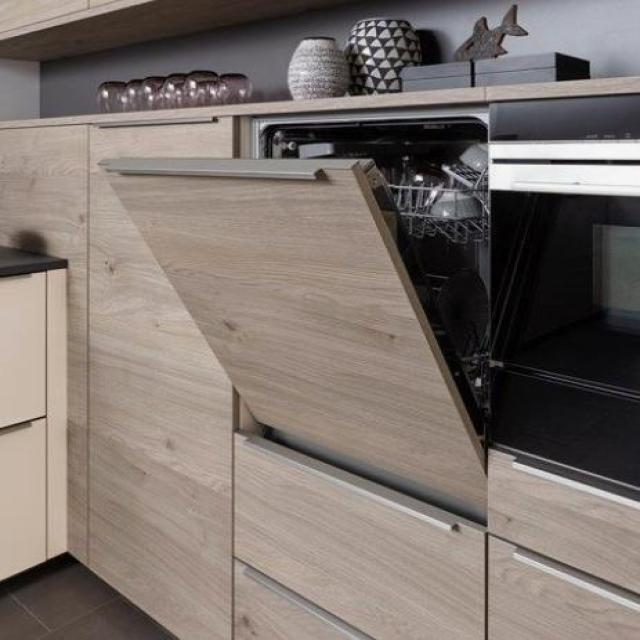dishwasher: (93, 88, 506, 536)
